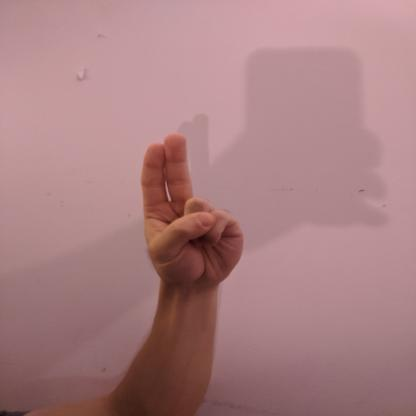U: (134, 129, 247, 290)
